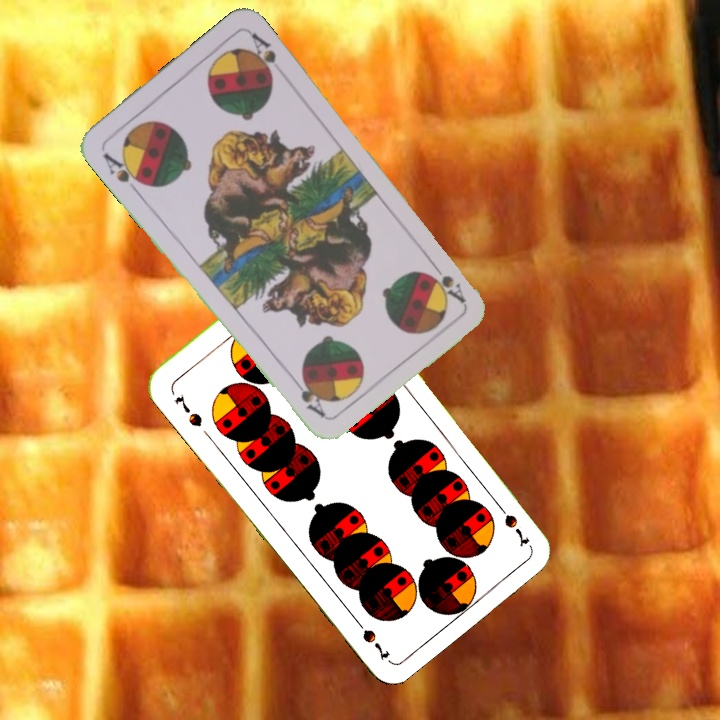S7: (491, 497, 532, 549), (171, 389, 205, 430)
SA: (99, 149, 148, 196), (425, 256, 469, 306)
